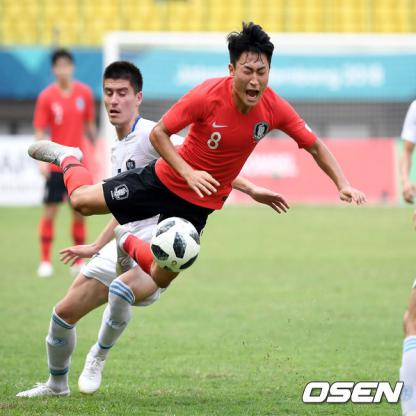Fall_Down: (30, 24, 367, 289)
